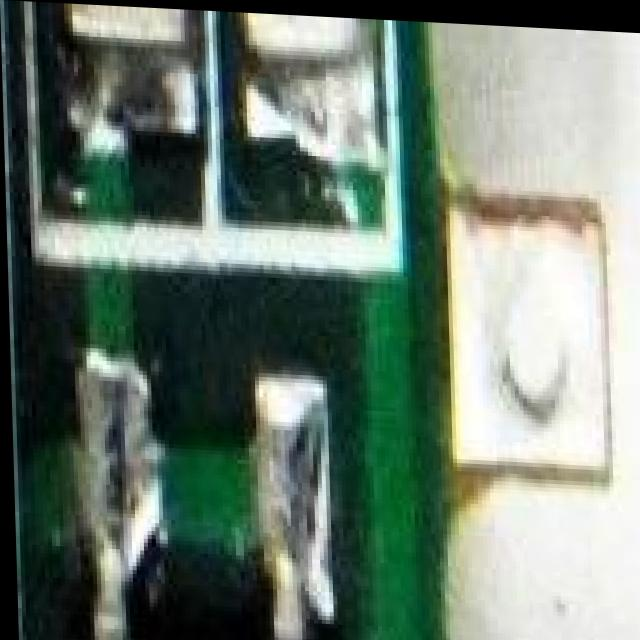capacitor: (240, 10, 357, 55)
resistor: (68, 3, 187, 115)
transistor: (58, 426, 343, 640)
